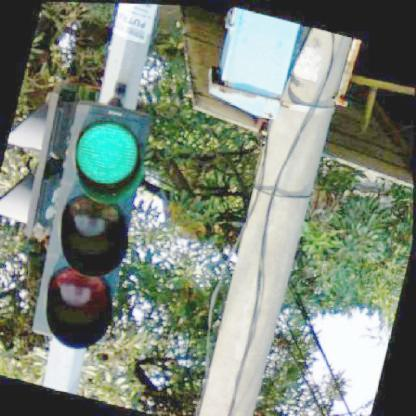Traffic Light -Green-: (18, 96, 166, 356)
